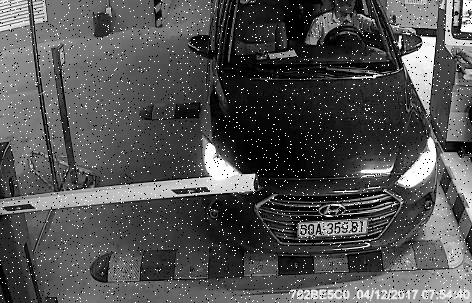License-plate: (292, 216, 375, 246)
